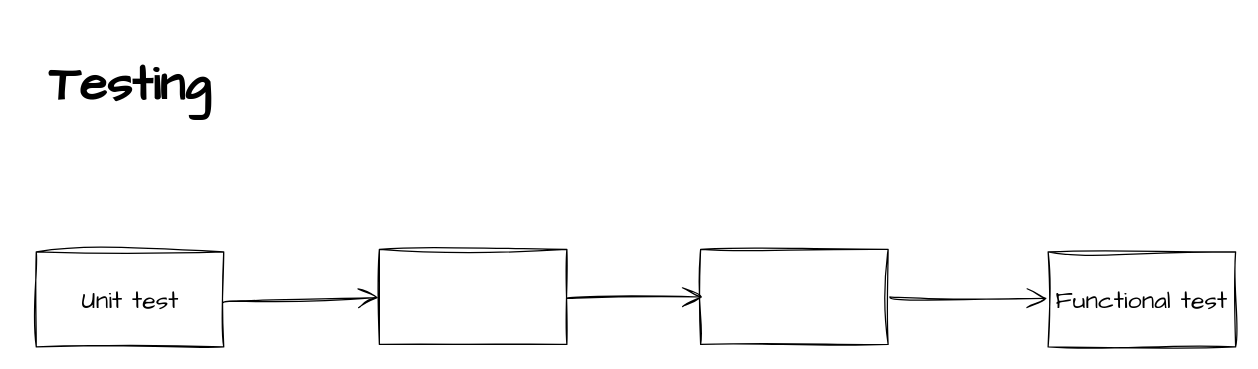
The diagram is 1258 pixels wide and 369 high, and some of its shapes have lost their labels. Here are the shapes that lost their labels. From the top down, the centre of each, then its label:
point 472,296: Smoke test
point 793,296: Integration test
